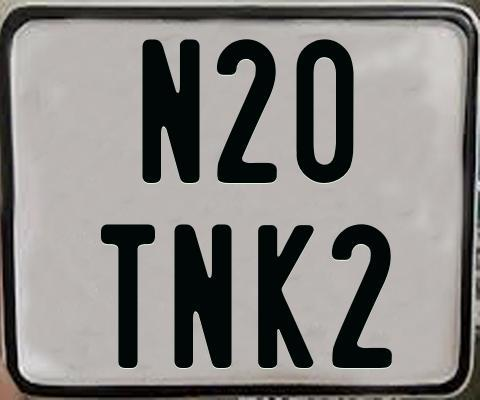0: (295, 37, 357, 181)
2: (332, 222, 397, 367), (216, 38, 280, 182)
K: (258, 224, 318, 369)
N: (173, 223, 235, 368), (142, 39, 200, 188)
T: (99, 222, 159, 369)
